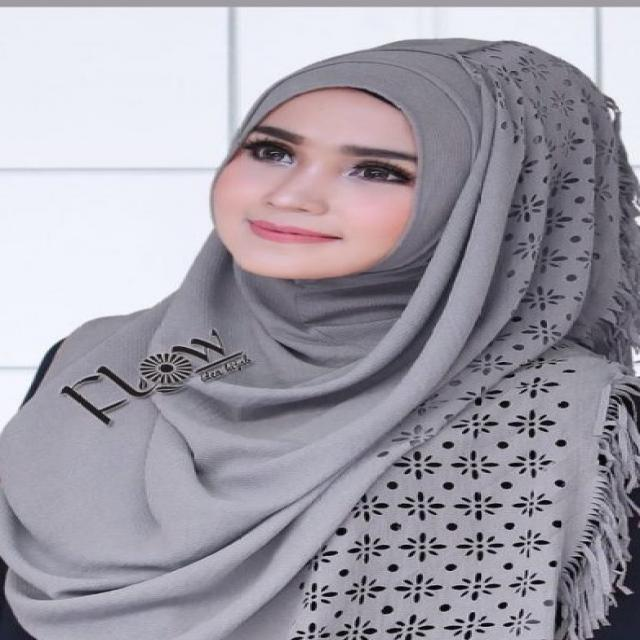head: (202, 29, 640, 294)
